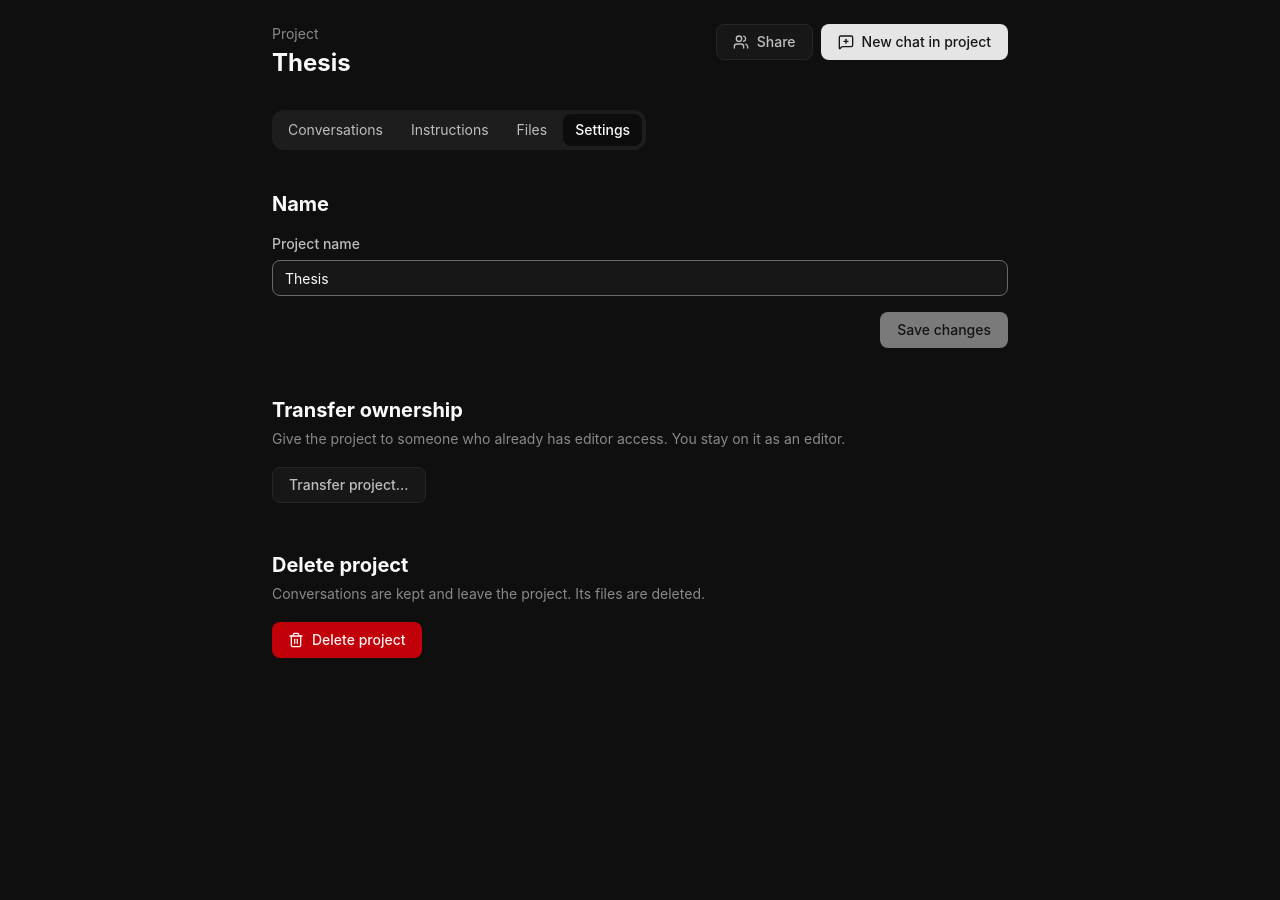
Test: project page › words the delete confirmation to fit what the project holds (#210)
This screenshot has width=1280, height=900.
Click the button "Delete project" at (347,640), box [272,622,422,658]
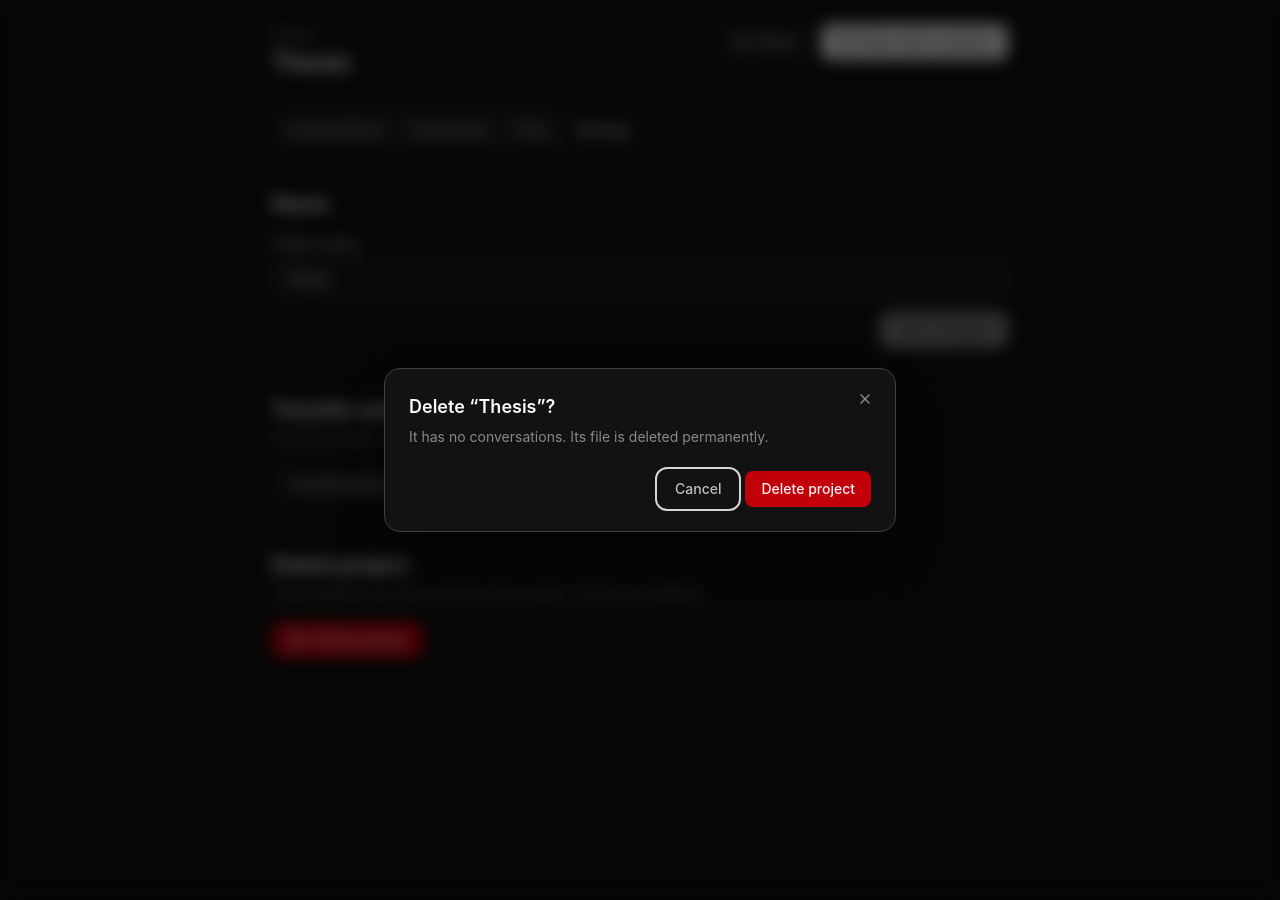
Expected: the dialog shows "It has no conversations. Its file is deleted permanently.", [409,428,769,445]
